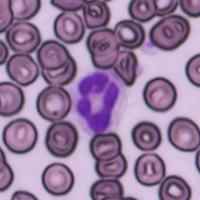N: (70, 67, 128, 136)
